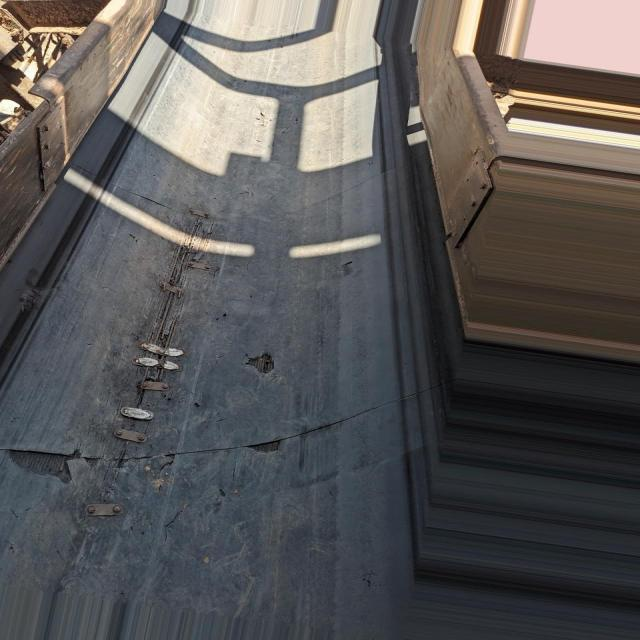Tear: (111, 216, 224, 464), (2, 407, 370, 478), (120, 180, 188, 215), (321, 254, 352, 284), (250, 349, 284, 374)
